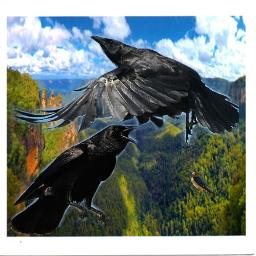Crow: (8, 33, 239, 146), (11, 123, 139, 234)
Swallow: (191, 172, 219, 204)
